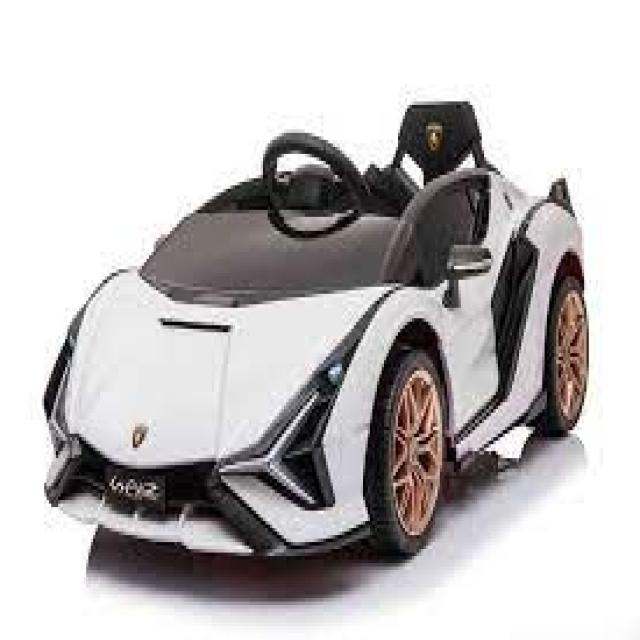Car: (42, 98, 591, 559)
